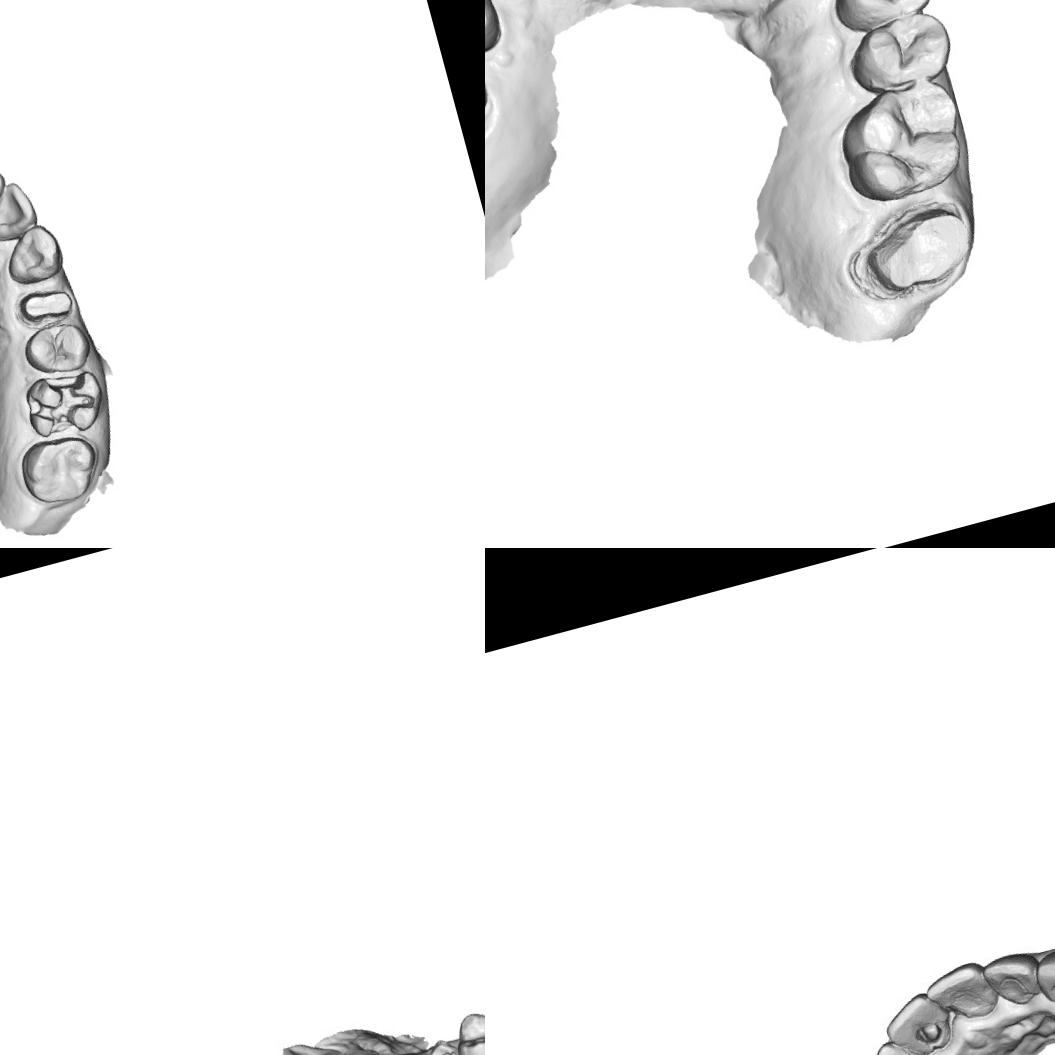canine: (0, 219, 69, 289), (1029, 938, 1055, 1017)
crown: (849, 195, 983, 307), (12, 280, 76, 332)
incisor: (918, 955, 1002, 1035), (878, 987, 954, 1055), (978, 945, 1048, 1013), (0, 176, 41, 245), (860, 1029, 938, 1055), (276, 1031, 349, 1055)
inlay: (18, 363, 110, 444)
molar: (827, 73, 974, 214), (13, 426, 107, 512)
premolar: (838, 2, 962, 100), (18, 315, 96, 381), (819, 0, 945, 40), (447, 1004, 485, 1055)
